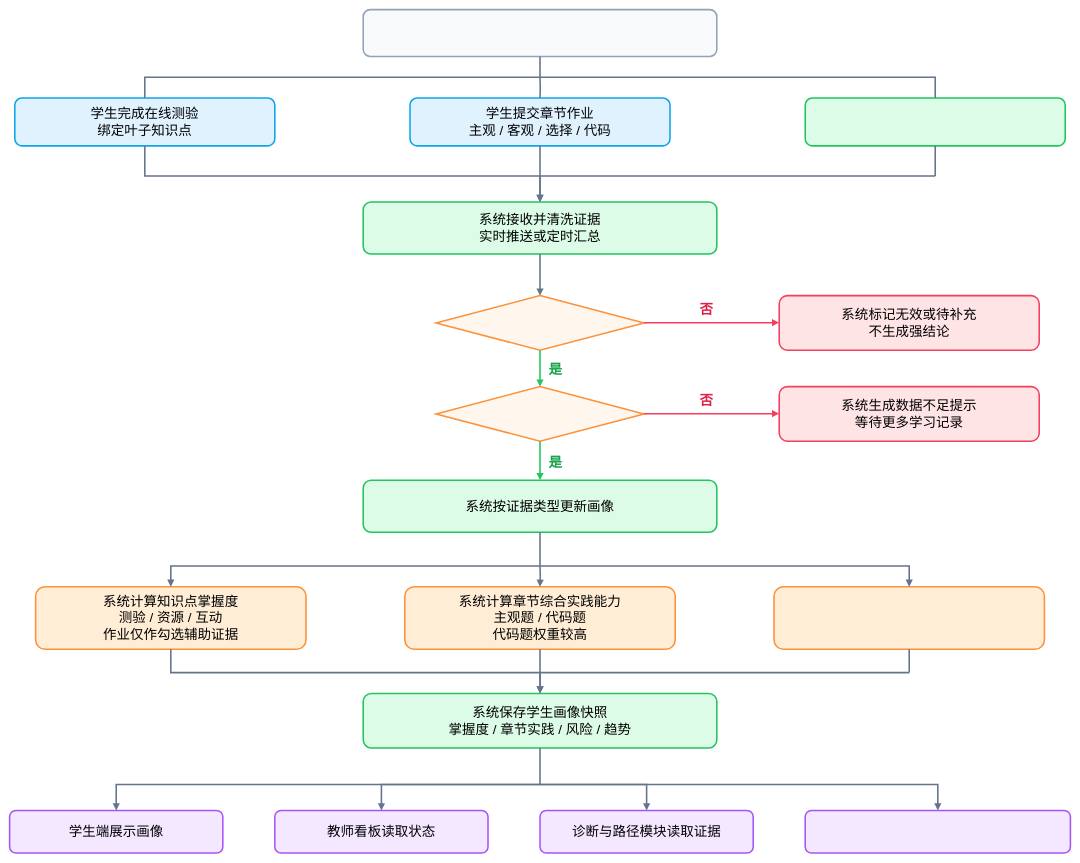
The diagram is 1080 pixels wide and 863 high, and some of its shapes have lost their labels. The box of each missing label's shape, as (x1, y1, x2, y2) in pixels:
业务模块产生学习证据 测验 / 作业 / 资源 / 互动: (362, 9, 717, 57)
系统判断证据是否充足？: (435, 386, 645, 442)
系统判断证据有效？: (435, 295, 645, 351)
系统更新风险与趋势 薄弱点 / 稳定性 / 画像快照: (773, 586, 1045, 650)
系统记录学习行为 资源 / 进度 / 互动: (804, 97, 1066, 146)
课程数字孪生读取汇总状态: (804, 809, 1071, 854)
